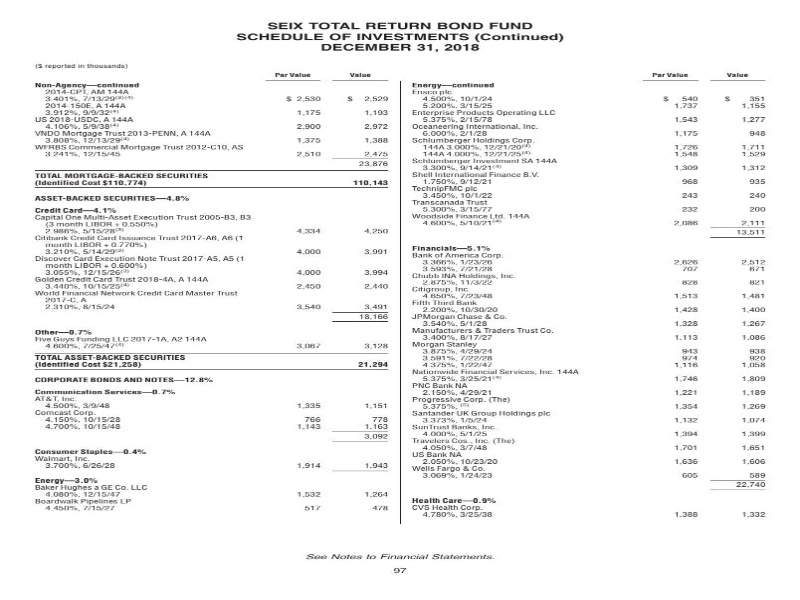table: (11, 54, 408, 533), (392, 65, 788, 532)
